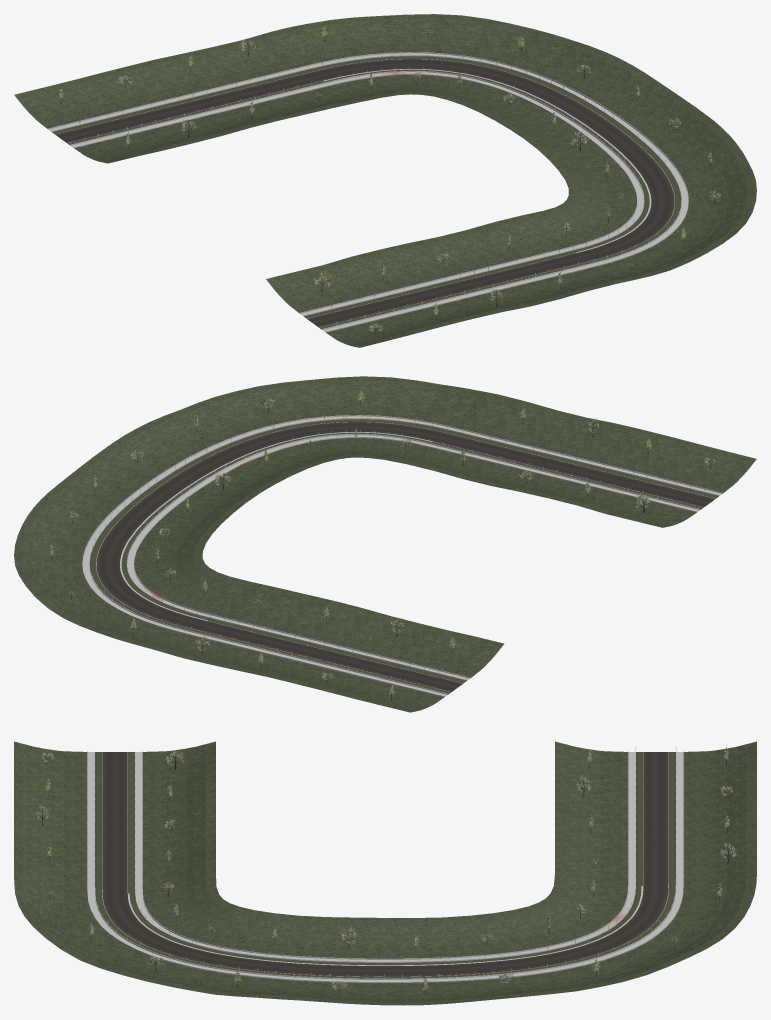
3 renders of one model, top to bottom at view 1: azimuth 30°, elevation 25°; view 2: azimuth 150°, elevation 25°; view 3: azimuth 270°, elevation 25°, orthographic. The views are drawn at different scales.
Visible parts, largest first — view 1: Grass, Road, Track, Trees; view 2: Grass, Road, Track, Trees; view 3: Grass, Road, Track, Trees.
Boxes of the visible parts, <box> form: Grass: <box>14,14,756,347</box>; Road: <box>55,59,674,327</box>; Track: <box>48,51,688,332</box>; Trees: <box>59,24,721,335</box>; Grass: <box>14,376,756,712</box>; Road: <box>96,422,714,691</box>; Track: <box>82,414,722,697</box>; Trees: <box>48,390,717,700</box>; Grass: <box>14,741,756,1005</box>; Road: <box>102,752,668,976</box>; Track: <box>87,747,683,982</box>; Trees: <box>36,747,736,996</box>.
Size of the model in its own units: 42982 by 2013 by 51500.
